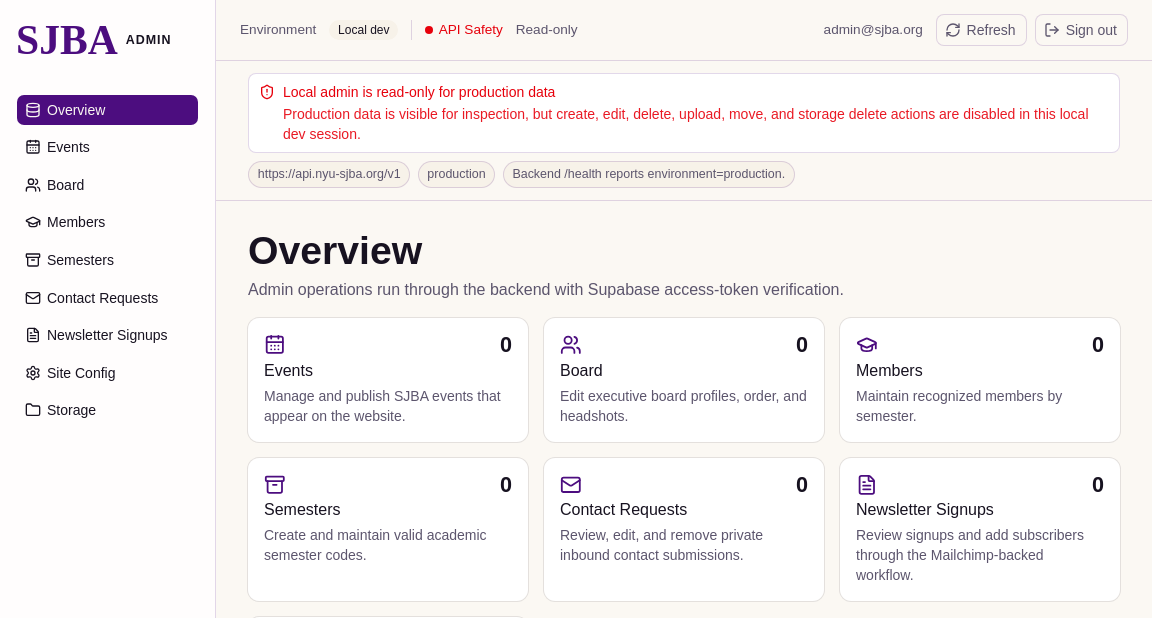
Test: App › keeps local dev read-only when backend safety check reports production
Expected: the text "Local admin is read-only for production data" is shown, [283, 84, 555, 100]
Expected: the text "Production data is visible for inspection" is shown, [283, 106, 1088, 142]
Click the button "Events". click: (108,147)
box: [16, 131, 199, 163]
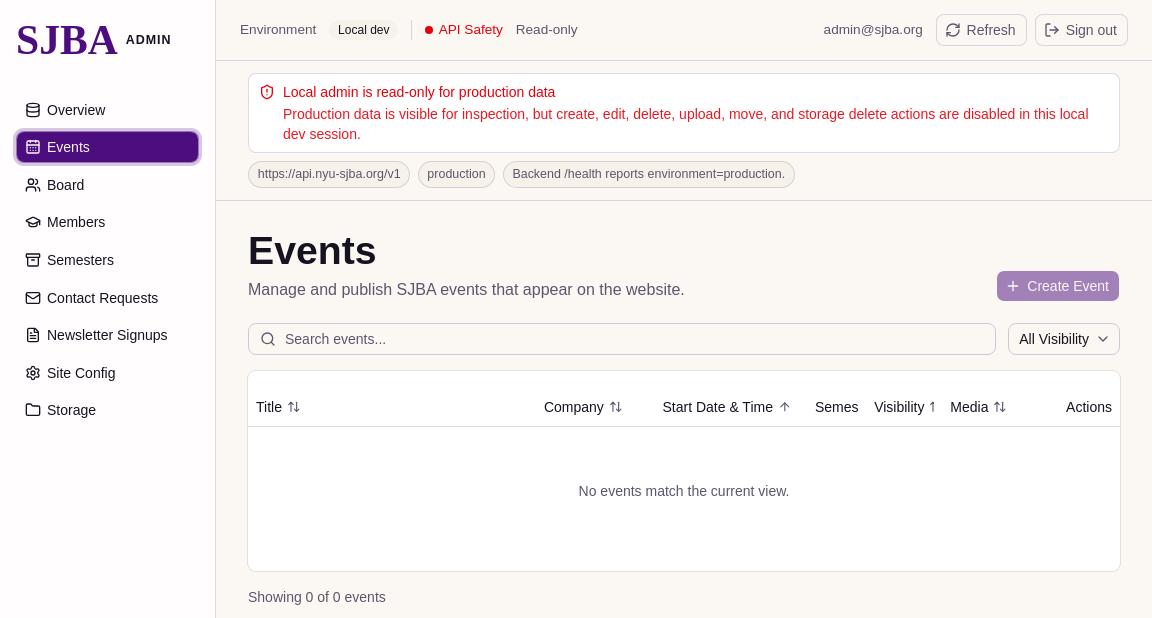
Expected: the heading "Events" is shown, [248, 229, 376, 272]
Expected: the button "Create Event" is disabled, [996, 270, 1120, 302]
